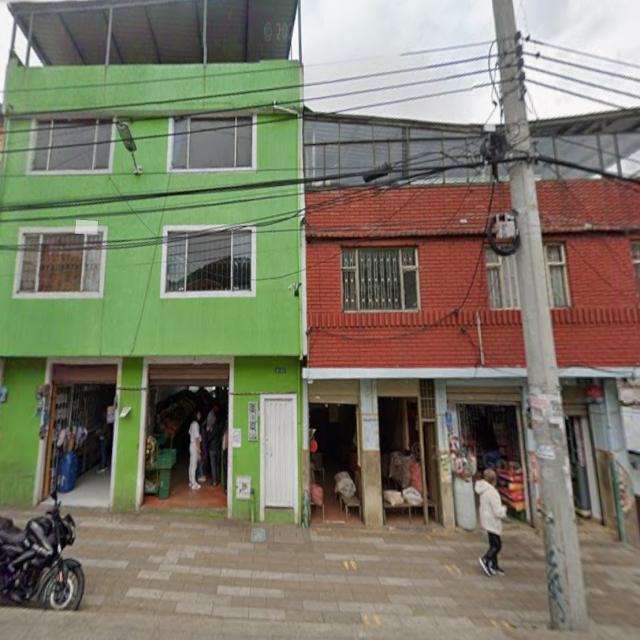fachada: (0, 0, 303, 521), (304, 113, 539, 525)
poste: (509, 160, 588, 630), (105, 7, 113, 71), (25, 13, 34, 67), (297, 0, 302, 63), (203, 0, 207, 68), (10, 19, 17, 54)
